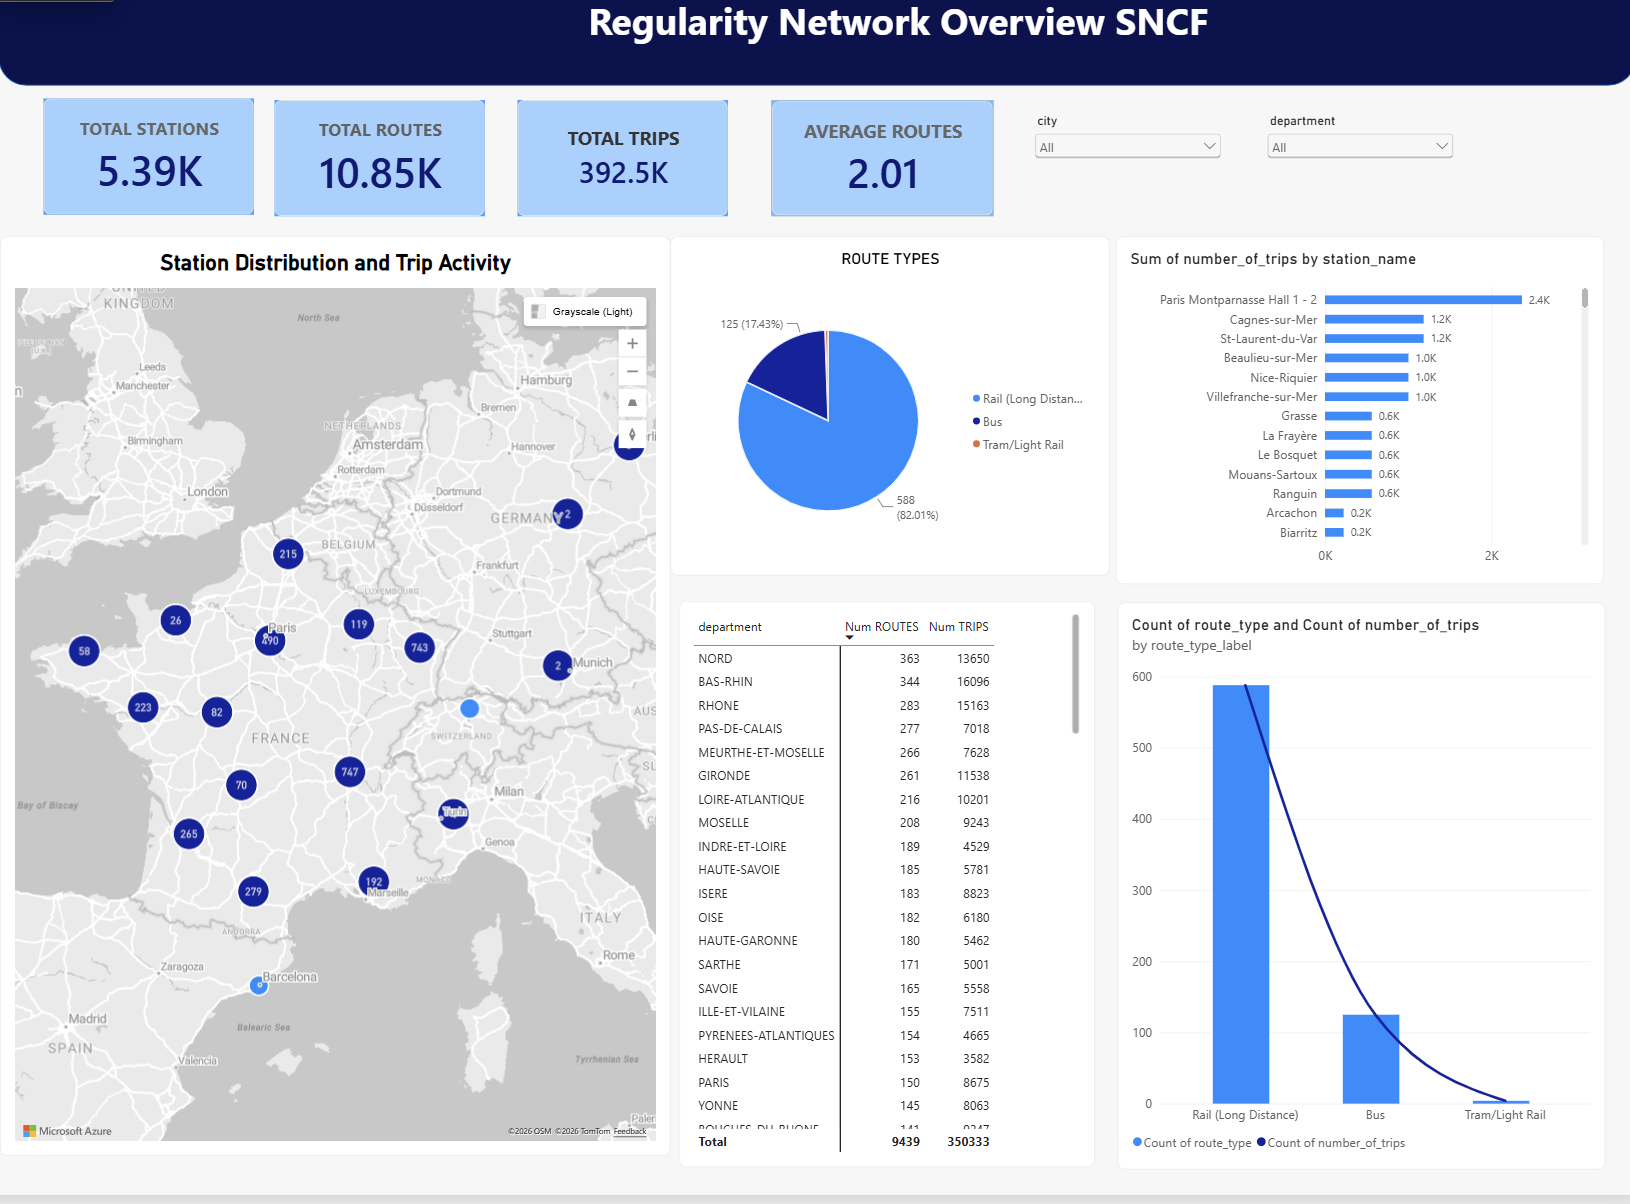

This screenshot's page, from the dashboard's own definition file:
{"tool":"powerbi","page":{"name":"Page 2","canvas":[1900,1400],"ordinal":1},"visuals":[{"type":"azureMap","title":"Station Distribution and Trip Activity","fields":{"Size":["Sum(gold_powerbi_station.number_of_trips)"],"X":["gold_powerbi_station.longitude"],"Y":["gold_powerbi_station.latitude"]},"box":[23.6,301.6,768.6,1053.9],"z":0},{"type":"shape","box":[22.9,0,1877.7,128.1],"z":1000},{"type":"textbox","box":[244.8,24.9,1619.6,103.3],"z":2000},{"type":"pieChart","title":"ROUTE TYPES","fields":{"Category":["gold_route_summary.route_type_label"],"Y":["CountNonNull(gold_route_summary.route_id)"]},"box":[792.2,301.6,503.3,388.8],"z":3000},{"type":"cardVisual","fields":{"Data":["Avg(gold_powerbi_station.number_of_routes)"]},"box":[908.9,143.8,255.6,133.1],"z":4000},{"type":"cardVisual","fields":{"Data":["Sum(gold_powerbi_station.number_of_routes)"]},"box":[339.1,143.8,241.4,133.1],"z":5000},{"type":"cardVisual","fields":{"Data":["Count(gold_powerbi_station.stop_id)"]},"box":[74.5,143.5,241.4,133.1],"z":6000},{"type":"clusteredBarChart","fields":{"Category":["gold_powerbi_station.station_name"],"Y":["Sum(gold_powerbi_station.number_of_trips)"]},"box":[1304.6,300.8,559.1,398.6],"z":7000},{"type":"pivotTable","fields":{"Rows":["gold_powerbi_station.department"],"Values":["Sum(gold_powerbi_station.number_of_routes)","Sum(gold_powerbi_station.number_of_trips)"]},"box":[802.7,719.7,476.1,649.5],"z":8000},{"type":"slicer","fields":{"Values":["gold_powerbi_station.city"]},"box":[1205,160.5,223.3,99.6],"z":10000},{"type":"cardVisual","fields":{"Data":["Sum(gold_powerbi_station.number_of_trips)"]},"box":[618.2,143.9,241.4,133.1],"z":11000},{"type":"slicer","fields":{"Values":["gold_powerbi_station.department"]},"box":[1472.5,160.5,223.3,99.6],"z":12000},{"type":"lineStackedColumnComboChart","fields":{"Category":["gold_route_summary.route_type_label"],"Y":["CountNonNull(gold_route_summary.route_type)"],"Y2":["CountNonNull(gold_route_summary.number_of_trips)"]},"box":[1305,720,559,650],"z":12001}]}

Visuals, with their boxes in screenshot pixels (x1, y1, x2, y2), scaled from the page's 1900x1400 canvas onto the 1630x1204 screenshot:
"Station Distribution and Trip Activity" azureMap: Rect(20, 259, 680, 1166)
shape: Rect(20, 0, 1629, 110)
textbox: Rect(210, 21, 1599, 110)
"ROUTE TYPES" pieChart: Rect(680, 259, 1111, 594)
cardVisual - Avg(gold_powerbi_station.number_of_routes): Rect(780, 124, 999, 238)
cardVisual - Sum(gold_powerbi_station.number_of_routes): Rect(291, 124, 498, 238)
cardVisual - Count(gold_powerbi_station.stop_id): Rect(64, 123, 271, 238)
clusteredBarChart - gold_powerbi_station.station_name x Sum(gold_powerbi_station.number_of_trips): Rect(1119, 259, 1599, 601)
pivotTable - gold_powerbi_station.department x Sum(gold_powerbi_station.number_of_routes): Rect(689, 619, 1097, 1178)
slicer - gold_powerbi_station.city: Rect(1034, 138, 1225, 224)
cardVisual - Sum(gold_powerbi_station.number_of_trips): Rect(530, 124, 737, 238)
slicer - gold_powerbi_station.department: Rect(1263, 138, 1455, 224)
lineStackedColumnComboChart - gold_route_summary.route_type_label x CountNonNull(gold_route_summary.route_type): Rect(1120, 619, 1599, 1178)
